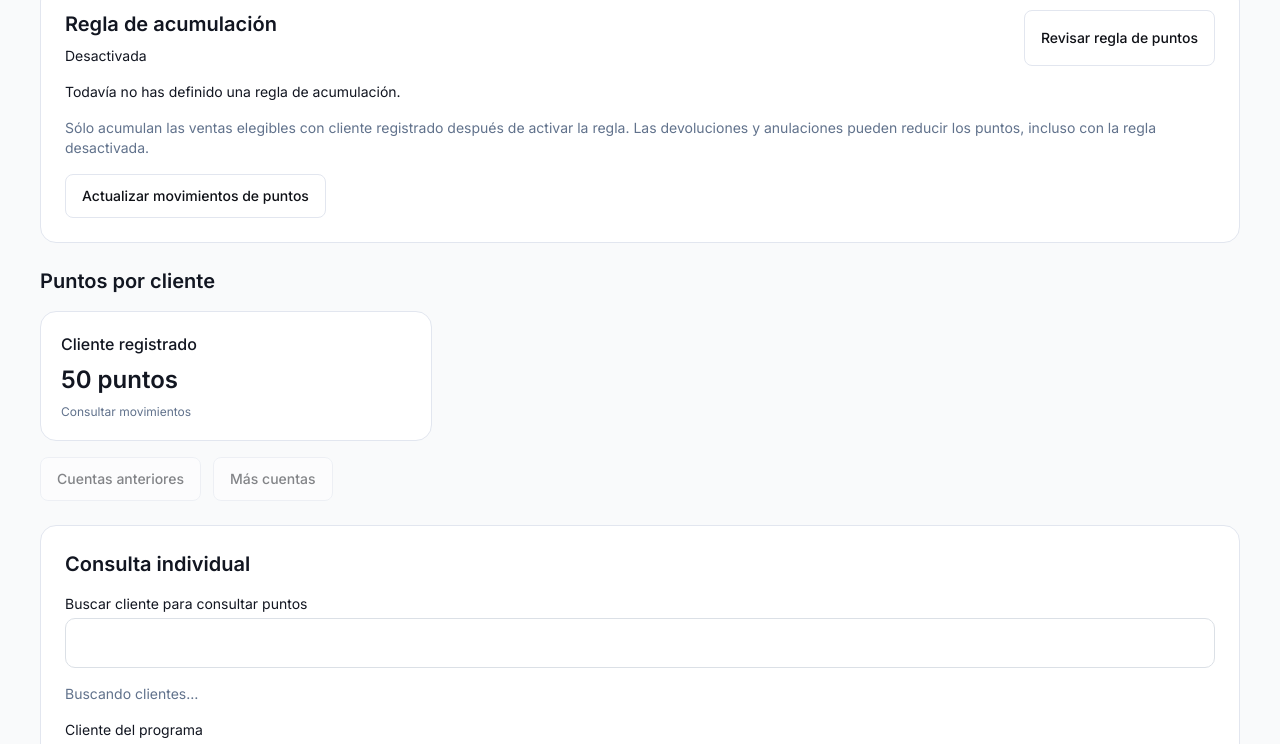
blocks redemption while refund or void adjustments are pending
The width and height of the screenshot is (1280, 744).
(page scrolled)
Click the button "Cliente registrado 50 puntos Consultar movimientos".
click(129, 344)  # box left=40, top=311, right=432, bottom=441
(page scrolled)
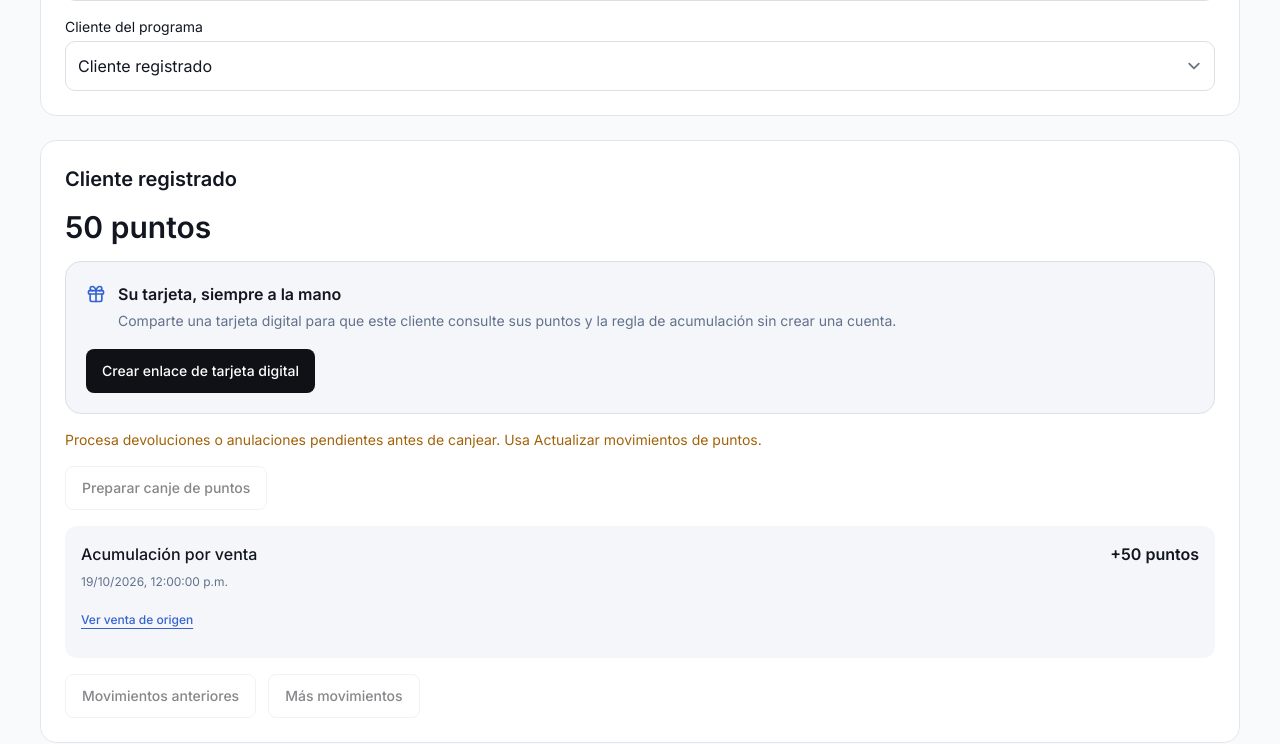
Now the text "Procesa devoluciones o anulaciones pendientes" is shown, box left=65, top=430, right=762, bottom=448
Now the button "Preparar canje de puntos" is disabled, box left=65, top=466, right=267, bottom=510
